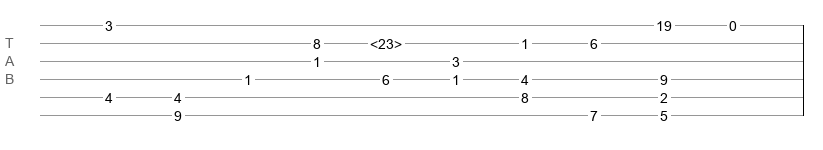0: (729, 18, 737, 28)
1: (244, 72, 252, 82), (313, 54, 321, 64), (452, 72, 460, 82), (521, 36, 529, 46)
19: (656, 18, 672, 28)
2: (660, 90, 668, 100)
3: (105, 18, 113, 28), (452, 54, 460, 64)
4: (105, 90, 113, 100), (174, 90, 182, 100), (521, 72, 529, 82)
5: (660, 108, 668, 118)
6: (382, 72, 390, 82), (590, 36, 598, 46)
7: (590, 108, 598, 118)
8: (313, 36, 321, 46), (521, 90, 529, 100)
9: (174, 108, 182, 118), (660, 72, 668, 82)
harmonic: (370, 36, 402, 46)
